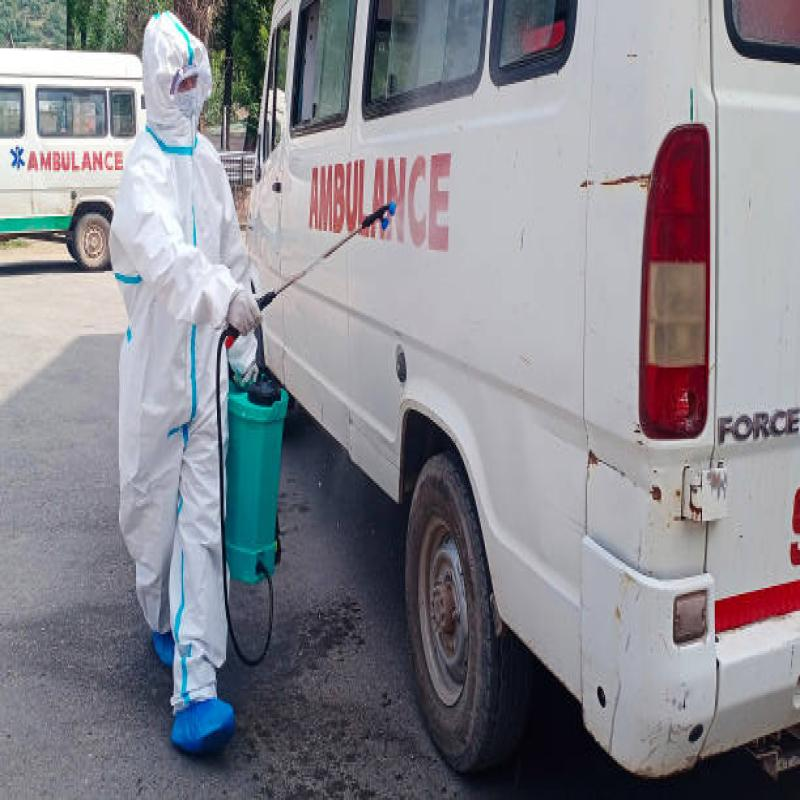ambulance: (237, 0, 800, 800)
